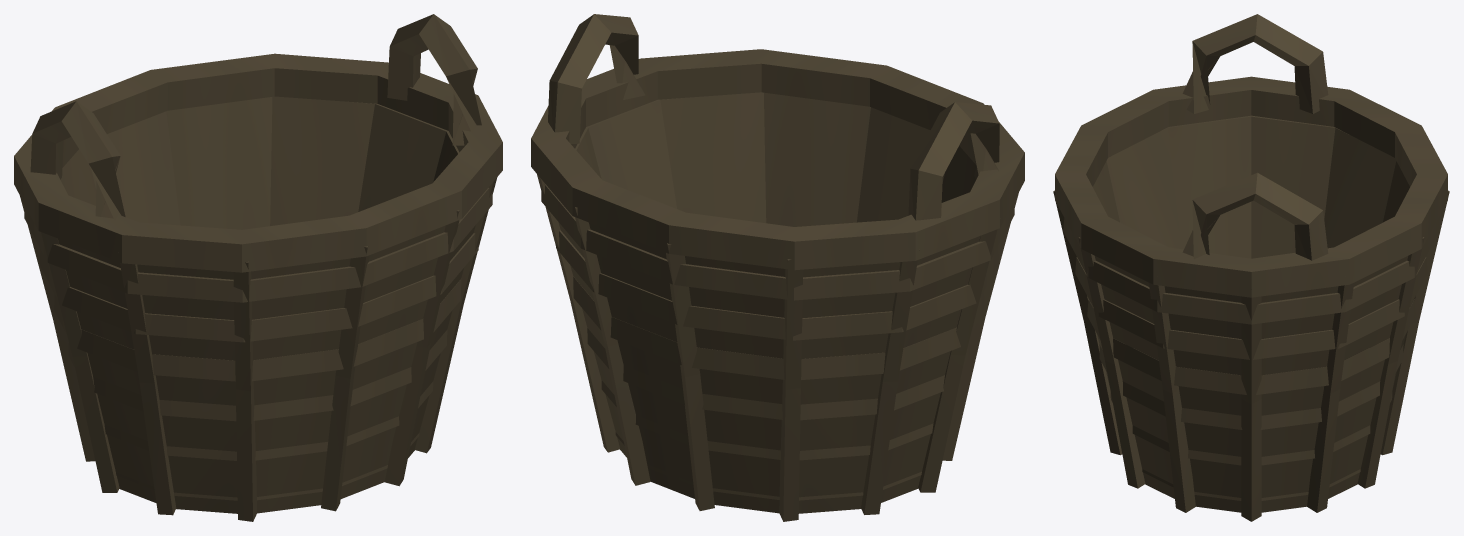
File: WarrensC_CCS77_ReedBasket_Mars_SM.fbx
3 views of the same model, side by side, from view 1: azimuth 30°, elevation 25°; view 2: azimuth 150°, elevation 25°; view 3: azimuth 270°, elevation 25° (orthographic). The views are drawn at different scales.
Visible parts, largest first — view 1: WarrensC_CCS77_ReedBasket_Mars_SM.001; view 2: WarrensC_CCS77_ReedBasket_Mars_SM.001; view 3: WarrensC_CCS77_ReedBasket_Mars_SM.001.
Boxes of the visible parts, x1,y1,x2,y2 form: WarrensC_CCS77_ReedBasket_Mars_SM.001: (14,14,502,521); WarrensC_CCS77_ReedBasket_Mars_SM.001: (531,14,1024,521); WarrensC_CCS77_ReedBasket_Mars_SM.001: (1053,14,1449,521).
Bounding box in the file's own units: 70 × 60 × 60.
